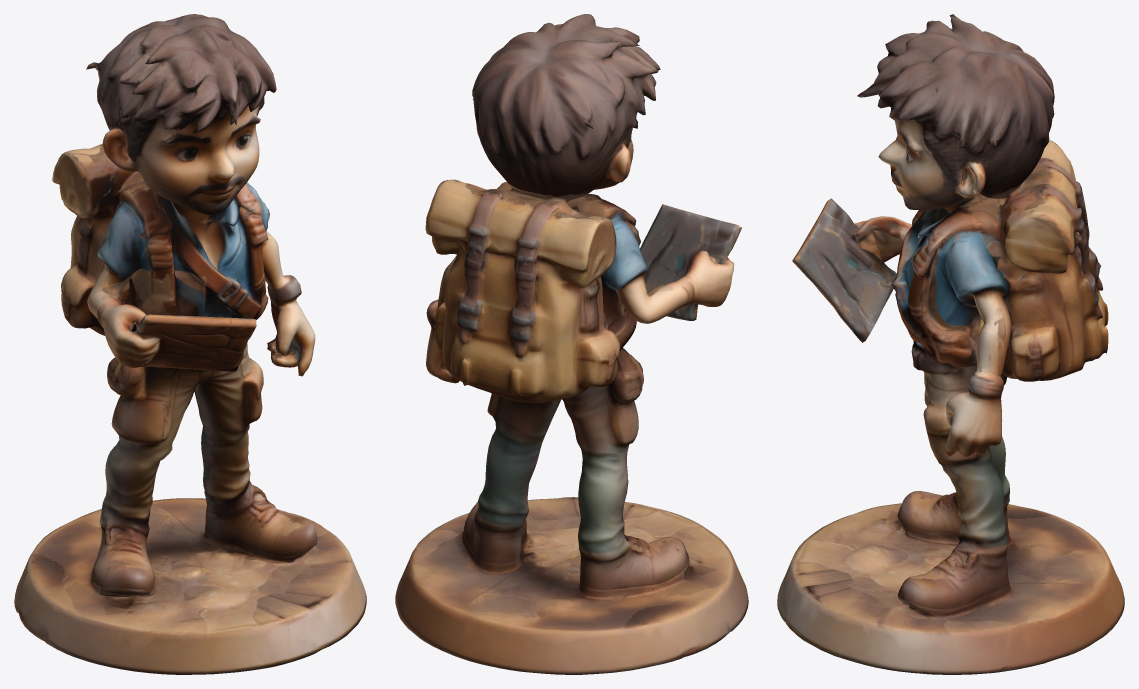
File: adventurer_character_-_stylised_figurine_meshy.glb
The picture shows the model from 3 angles, left to right: view 1: azimuth 30°, elevation 25°; view 2: azimuth 150°, elevation 25°; view 3: azimuth 270°, elevation 25°; orthographic projection.
Visible parts, largest first — view 1: Mesh_0_Material_0_0; view 2: Mesh_0_Material_0_0; view 3: Mesh_0_Material_0_0.
Boxes of the visible parts, <box> form: Mesh_0_Material_0_0: <box>14,14,366,674</box>; Mesh_0_Material_0_0: <box>395,14,748,674</box>; Mesh_0_Material_0_0: <box>777,14,1124,674</box>.
Bounding box in the file's own units: 1.11 × 2 × 1.11.
1 material, 1 textured.
